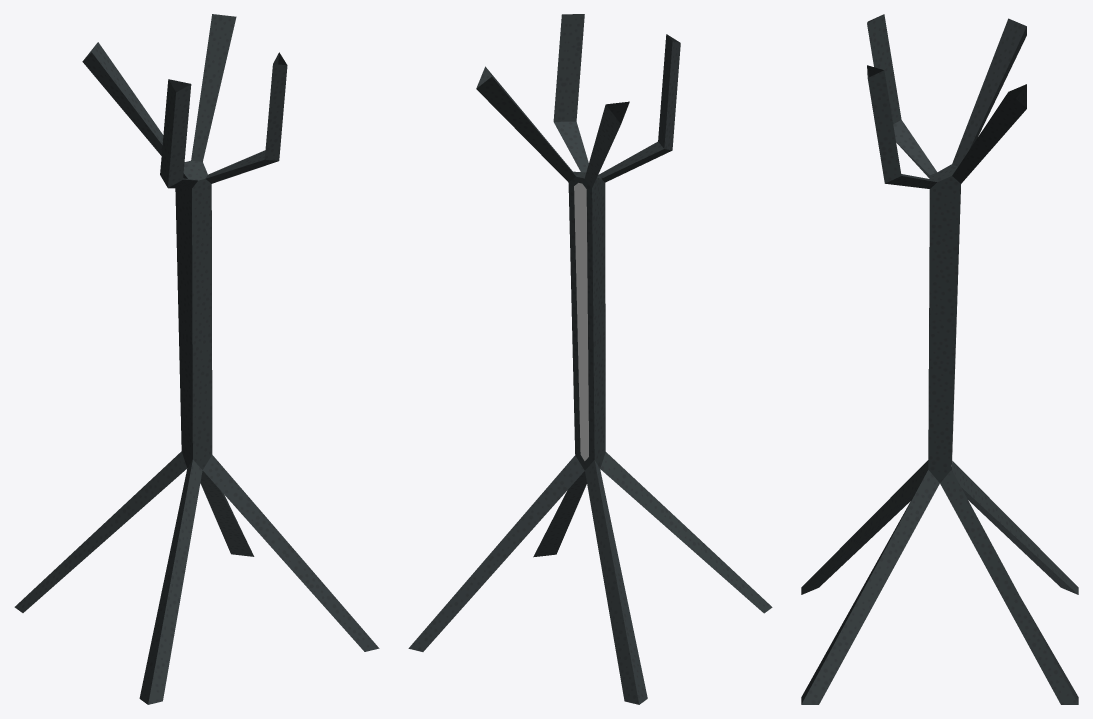
File: Speaker_stand_LOD0.fbx
The picture shows the model from 3 angles, left to right: view 1: azimuth 30°, elevation 25°; view 2: azimuth 150°, elevation 25°; view 3: azimuth 270°, elevation 25°; orthographic projection. The views are drawn at different scales.
Parts seen in each view (by area): view 1: Speaker_stand_LOD0; view 2: Speaker_stand_LOD0; view 3: Speaker_stand_LOD0.
Boxes of the visible parts, x1=… form: Speaker_stand_LOD0: x1=14, y1=14, x2=379, y2=704; Speaker_stand_LOD0: x1=408, y1=14, x2=772, y2=704; Speaker_stand_LOD0: x1=801, y1=14, x2=1078, y2=704.
Size of the model in its own units: 115 by 277 by 115.
